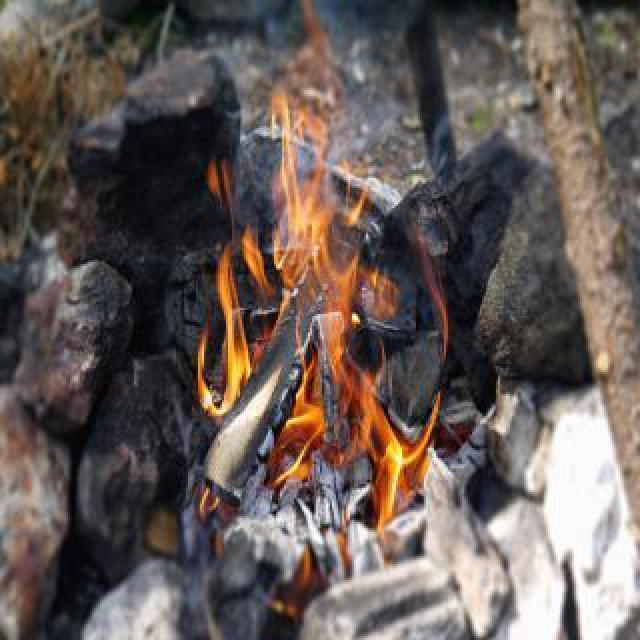Fire: (198, 92, 432, 518)
Smoke: (328, 48, 418, 166)
